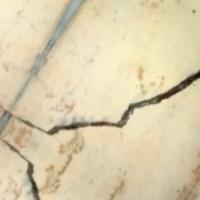crack: (9, 61, 199, 162)
